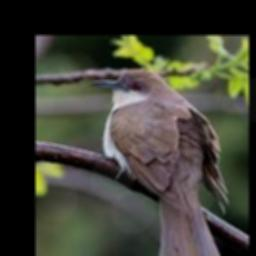Cuckoo: (91, 67, 229, 256)
